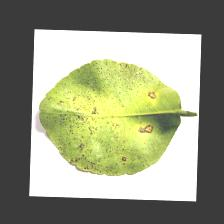canker: (44, 55, 158, 172)
